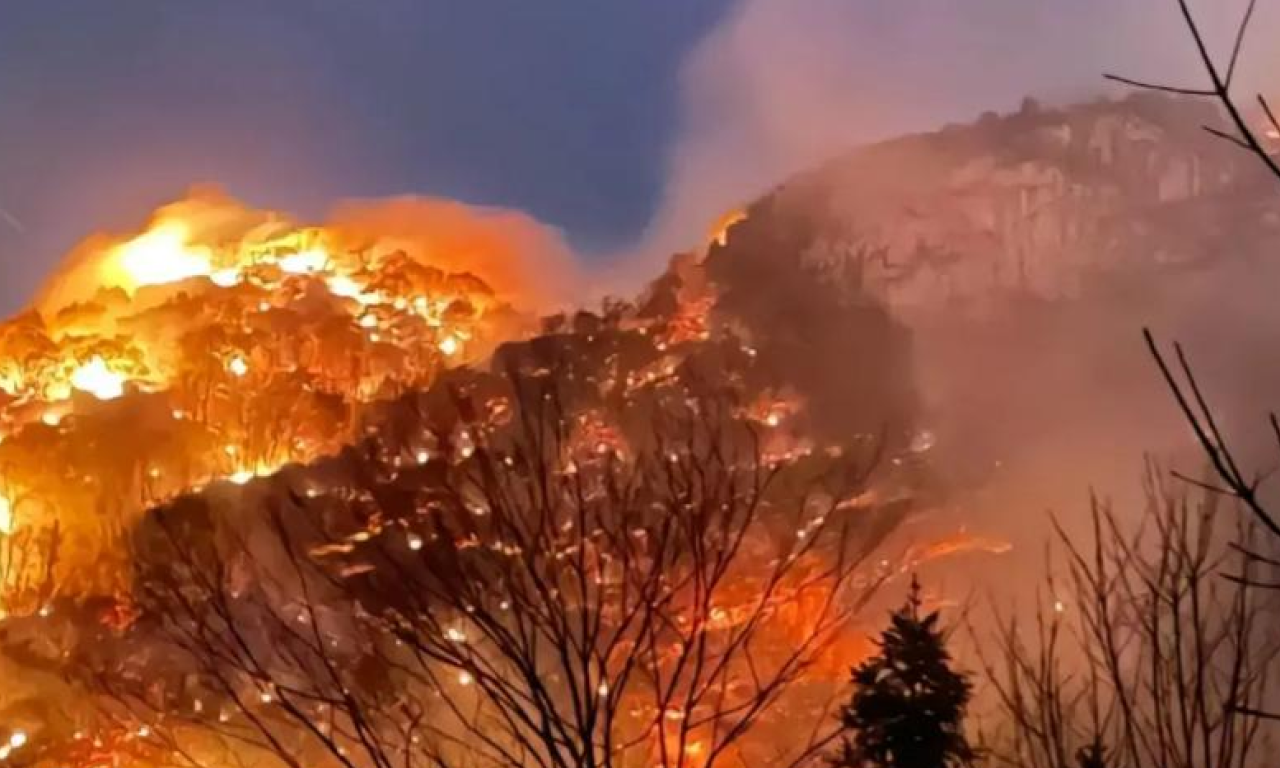fire: (16, 160, 884, 742)
